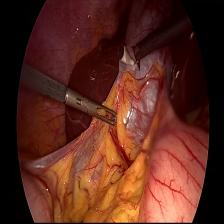Grasper: (69, 87, 119, 133)
Hook: (119, 46, 140, 71)
